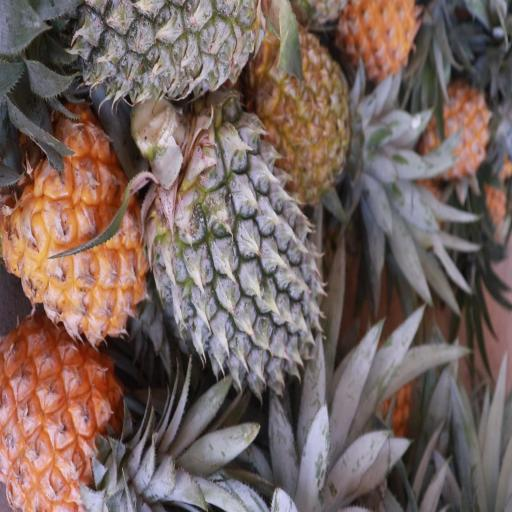------------------------------: (259, 32, 352, 198)
Pineapple - v8 v1: (5, 130, 147, 336), (0, 330, 126, 510), (423, 84, 494, 180), (344, 0, 422, 82)
